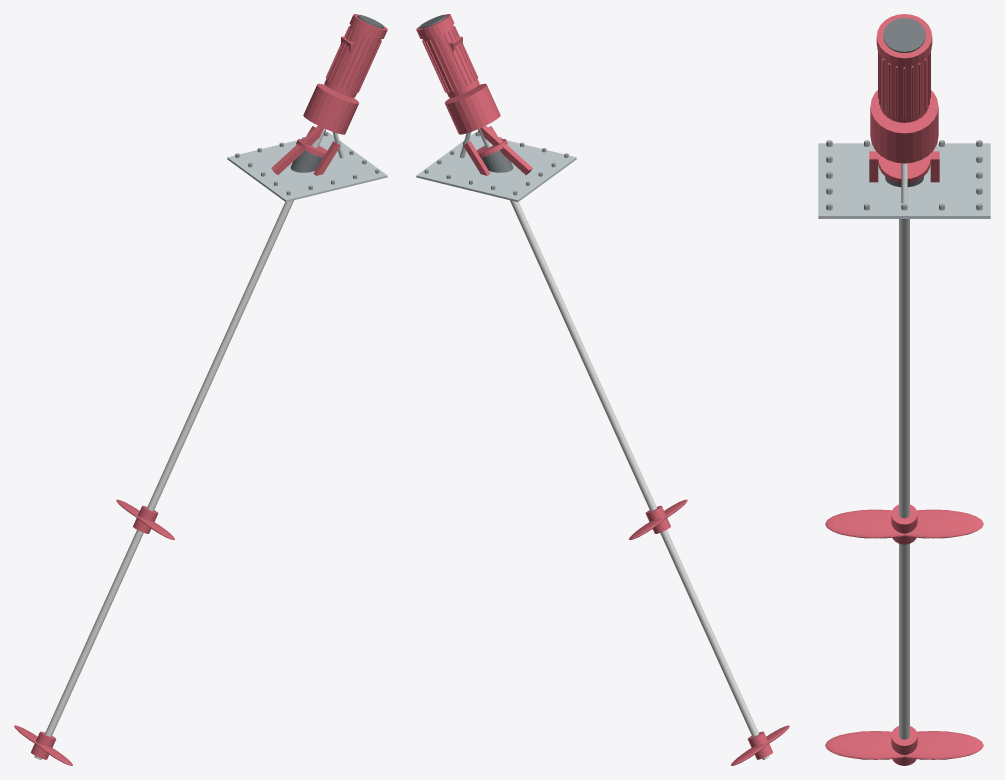
Rendered from mixer-deck.glb.
The picture shows the model from 3 angles, left to right: view 1: azimuth 30°, elevation 25°; view 2: azimuth 150°, elevation 25°; view 3: azimuth 270°, elevation 25°; orthographic projection. The views are drawn at different scales.
Visible parts, largest first — view 1: TESIS_KARISTIRICI_D1_TABLIYE_1_IC_UZUN_SAFT, TESIS_KARISTIRICI_D1_TABLIYE_1_MOTOR_REDÜKTÖR_KIRMIZI, TESIS_KARISTIRICI_D1_TABLIYE_1_ANKRAJ_PLAKASI, TESIS_KARISTIRICI_D1_TABLIYE_1_AYAR_KOLLARI, TESIS_KARISTIRICI_D1_TABLIYE_1_IC_PERVANE_2, TESIS_KARISTIRICI_D1_TABLIYE_1_IC_PERVANE_1; view 2: TESIS_KARISTIRICI_D1_TABLIYE_1_IC_UZUN_SAFT, TESIS_KARISTIRICI_D1_TABLIYE_1_MOTOR_REDÜKTÖR_KIRMIZI, TESIS_KARISTIRICI_D1_TABLIYE_1_ANKRAJ_PLAKASI, TESIS_KARISTIRICI_D1_TABLIYE_1_AYAR_KOLLARI, TESIS_KARISTIRICI_D1_TABLIYE_1_IC_PERVANE_2, TESIS_KARISTIRICI_D1_TABLIYE_1_IC_PERVANE_1; view 3: TESIS_KARISTIRICI_D1_TABLIYE_1_ANKRAJ_PLAKASI, TESIS_KARISTIRICI_D1_TABLIYE_1_MOTOR_REDÜKTÖR_KIRMIZI, TESIS_KARISTIRICI_D1_TABLIYE_1_IC_UZUN_SAFT, TESIS_KARISTIRICI_D1_TABLIYE_1_IC_PERVANE_1, TESIS_KARISTIRICI_D1_TABLIYE_1_IC_PERVANE_2, TESIS_KARISTIRICI_D1_TABLIYE_1_MOTOR_FAN_IZGARASI, TESIS_KARISTIRICI_D1_TABLIYE_1_SALMASTRA_FLANSI, TESIS_KARISTIRICI_D1_TABLIYE_1_ANKRAJ_SOMUNLARI, TESIS_KARISTIRICI_D1_TABLIYE_1_AYAR_KOLLARI.
Part boxes in pixels (x1=…): TESIS_KARISTIRICI_D1_TABLIYE_1_IC_UZUN_SAFT: x1=34, y1=128, x2=325, y2=759; TESIS_KARISTIRICI_D1_TABLIYE_1_MOTOR_REDÜKTÖR_KIRMIZI: x1=303, y1=14, x2=387, y2=134; TESIS_KARISTIRICI_D1_TABLIYE_1_ANKRAJ_PLAKASI: x1=227, y1=132, x2=387, y2=201; TESIS_KARISTIRICI_D1_TABLIYE_1_AYAR_KOLLARI: x1=271, y1=125, x2=340, y2=175; TESIS_KARISTIRICI_D1_TABLIYE_1_IC_PERVANE_2: x1=14, y1=725, x2=72, y2=765; TESIS_KARISTIRICI_D1_TABLIYE_1_IC_PERVANE_1: x1=116, y1=499, x2=174, y2=539; TESIS_KARISTIRICI_D1_TABLIYE_1_IC_UZUN_SAFT: x1=478, y1=128, x2=769, y2=759; TESIS_KARISTIRICI_D1_TABLIYE_1_MOTOR_REDÜKTÖR_KIRMIZI: x1=416, y1=14, x2=500, y2=134; TESIS_KARISTIRICI_D1_TABLIYE_1_ANKRAJ_PLAKASI: x1=416, y1=132, x2=576, y2=201; TESIS_KARISTIRICI_D1_TABLIYE_1_AYAR_KOLLARI: x1=463, y1=125, x2=532, y2=175; TESIS_KARISTIRICI_D1_TABLIYE_1_IC_PERVANE_2: x1=731, y1=725, x2=789, y2=765; TESIS_KARISTIRICI_D1_TABLIYE_1_IC_PERVANE_1: x1=629, y1=499, x2=687, y2=539; TESIS_KARISTIRICI_D1_TABLIYE_1_ANKRAJ_PLAKASI: x1=818, y1=143, x2=990, y2=218; TESIS_KARISTIRICI_D1_TABLIYE_1_MOTOR_REDÜKTÖR_KIRMIZI: x1=870, y1=14, x2=938, y2=163; TESIS_KARISTIRICI_D1_TABLIYE_1_IC_UZUN_SAFT: x1=899, y1=219, x2=909, y2=739; TESIS_KARISTIRICI_D1_TABLIYE_1_IC_PERVANE_1: x1=825, y1=504, x2=983, y2=544; TESIS_KARISTIRICI_D1_TABLIYE_1_IC_PERVANE_2: x1=825, y1=726, x2=983, y2=765; TESIS_KARISTIRICI_D1_TABLIYE_1_MOTOR_FAN_IZGARASI: x1=883, y1=18, x2=925, y2=52; TESIS_KARISTIRICI_D1_TABLIYE_1_SALMASTRA_FLANSI: x1=878, y1=154, x2=930, y2=182; TESIS_KARISTIRICI_D1_TABLIYE_1_ANKRAJ_SOMUNLARI: x1=826, y1=140, x2=982, y2=210; TESIS_KARISTIRICI_D1_TABLIYE_1_AYAR_KOLLARI: x1=869, y1=151, x2=939, y2=182.
Size of the model in its own units: 4.3 by 7.74 by 1.24.
